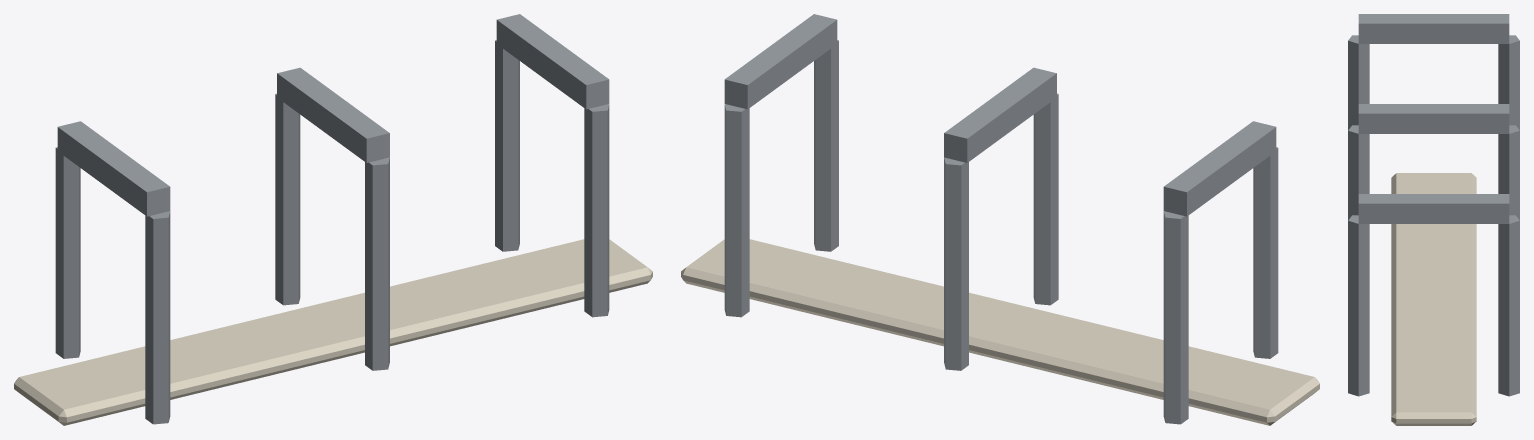
Rendered from bikerack.glb.
The picture shows the model from 3 angles, left to right: view 1: azimuth 30°, elevation 25°; view 2: azimuth 150°, elevation 25°; view 3: azimuth 270°, elevation 25°; orthographic projection. The views are drawn at different scales.
Visible parts, largest first — view 1: bikerack_foot, bikerack_legA-1, bikerack_legA1, bikerack_legA0, bikerack_legB-1, bikerack_legB0, bikerack_legB1, bikerack_hoop1, bikerack_hoop-1, bikerack_hoop0; view 2: bikerack_foot, bikerack_legB-1, bikerack_legB1, bikerack_legB0, bikerack_legA-1, bikerack_legA0, bikerack_legA1, bikerack_hoop1, bikerack_hoop-1, bikerack_hoop0; view 3: bikerack_foot, bikerack_hoop-1, bikerack_hoop0, bikerack_hoop1, bikerack_legA1, bikerack_legB1, bikerack_legA-1, bikerack_legB-1, bikerack_legA0, bikerack_legB0.
Boxes of the visible parts, x1,y1,x2,y2 form: bikerack_foot: (14,239,652,425); bikerack_legA-1: (145,211,170,424); bikerack_legA1: (584,104,609,317); bikerack_legA0: (365,157,389,370); bikerack_legB-1: (55,147,80,358); bikerack_legB0: (275,93,300,305); bikerack_legB1: (495,40,519,251); bikerack_hoop1: (496,14,609,109); bikerack_hoop-1: (57,121,170,216); bikerack_hoop0: (277,67,389,162); bikerack_foot: (681,239,1319,425); bikerack_legB-1: (1163,211,1188,424); bikerack_legB1: (724,104,749,317); bikerack_legB0: (944,157,968,370); bikerack_legA-1: (1253,147,1278,358); bikerack_legA0: (1033,93,1058,305); bikerack_legA1: (814,40,838,251); bikerack_hoop1: (724,14,837,109); bikerack_hoop-1: (1163,121,1276,216); bikerack_hoop0: (944,67,1056,162); bikerack_foot: (1391,173,1476,425); bikerack_hoop-1: (1358,14,1509,43); bikerack_hoop0: (1358,104,1509,133); bikerack_hoop1: (1358,194,1509,223); bikerack_legA1: (1348,215,1369,396); bikerack_legB1: (1498,215,1519,396); bikerack_legA-1: (1348,35,1369,130); bikerack_legB-1: (1498,35,1519,130); bikerack_legA0: (1348,125,1369,220); bikerack_legB0: (1498,125,1519,220).
Size of the model in its own units: 2.3 by 0.87 by 0.6856.
